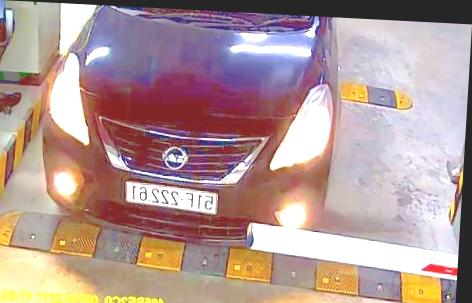License_Plate: (123, 180, 219, 218)
